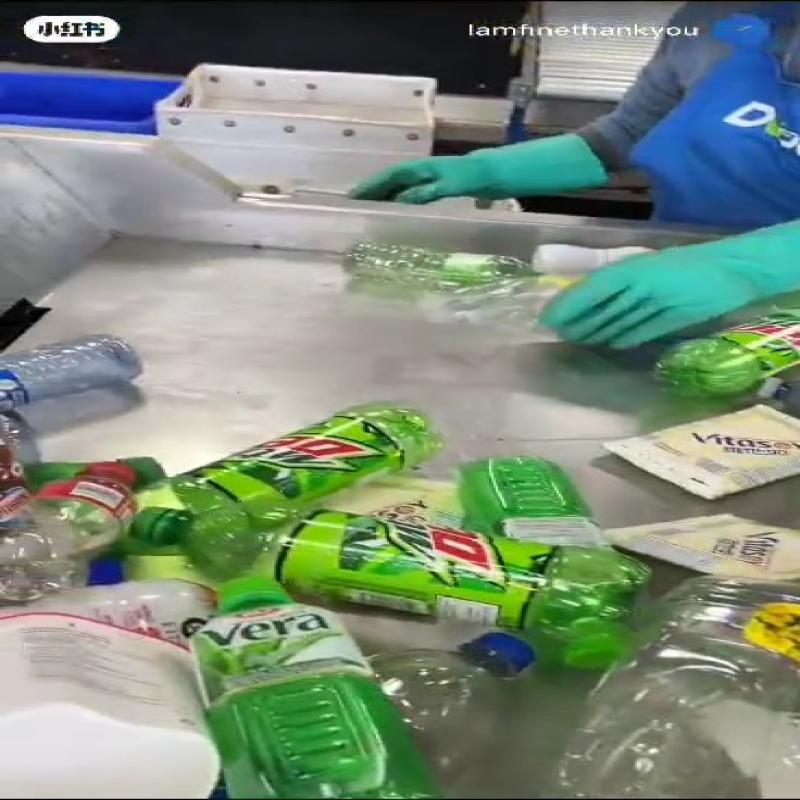botella: (132, 501, 658, 656), (180, 574, 421, 800), (449, 447, 627, 663), (158, 404, 443, 538), (345, 618, 534, 779), (0, 457, 148, 601), (653, 288, 800, 398), (0, 330, 148, 405), (327, 237, 533, 290)
